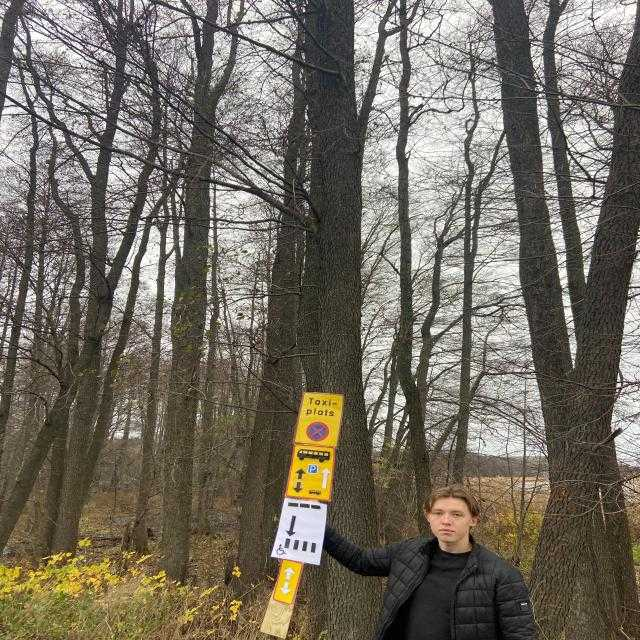lastplats: (296, 388, 346, 449)
